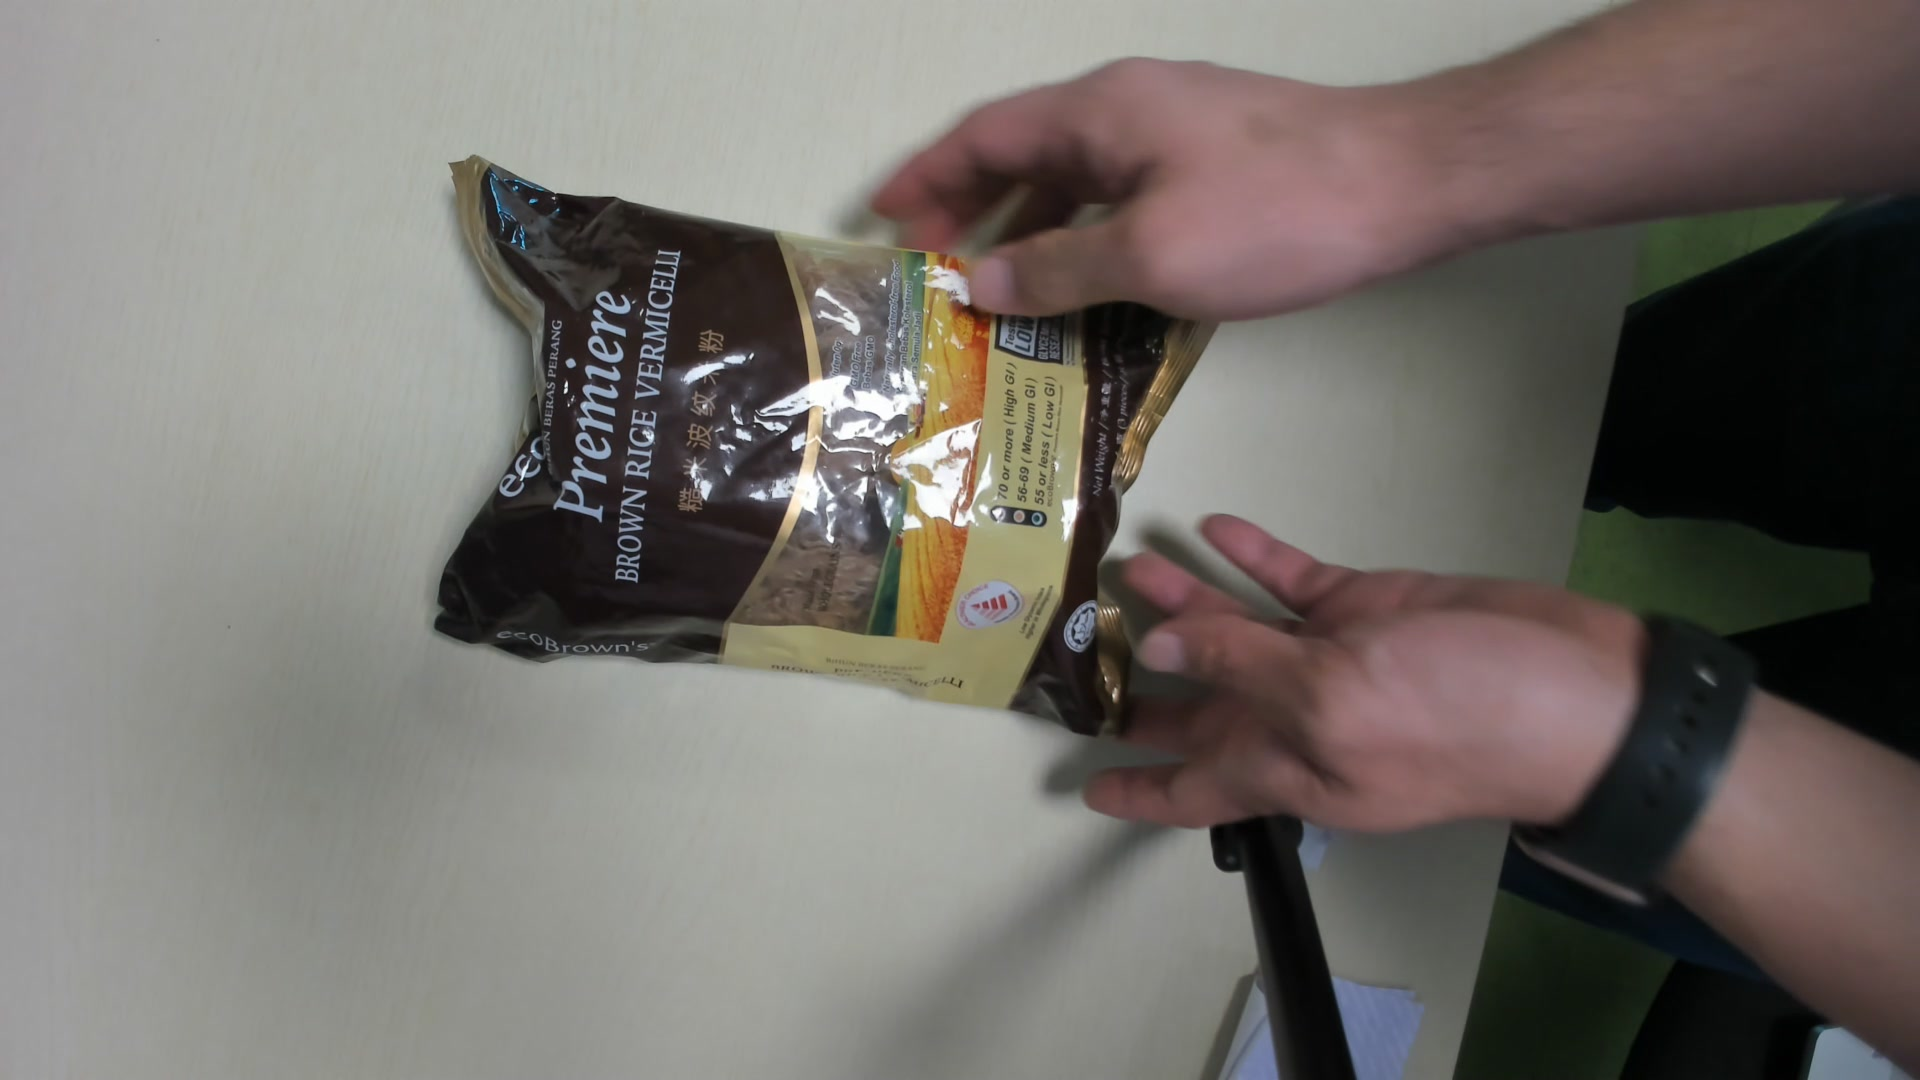BeeHoonVermicelli_300-399g_Halal_Healthy: (425, 160, 1209, 728)
